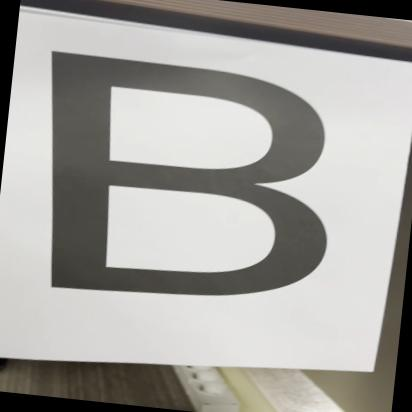seat: (10, 38, 343, 322)
